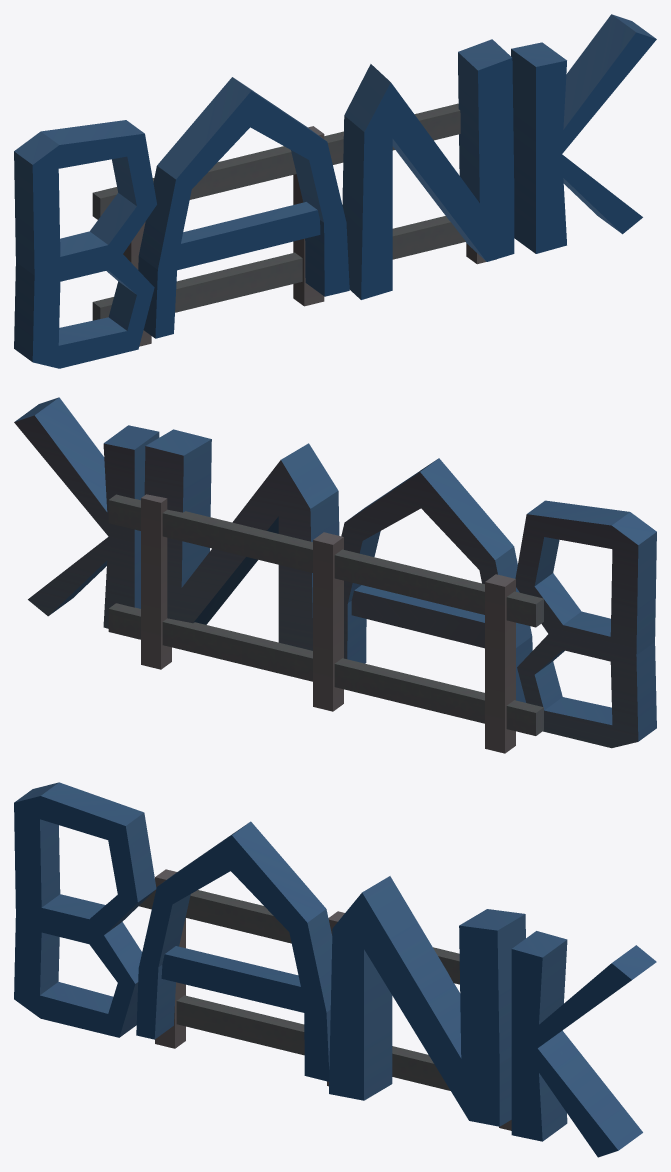
The model's file is SM_Hoarding_01.FBX.
3 views of the same model, one above another, from view 1: azimuth 30°, elevation 25°; view 2: azimuth 150°, elevation 25°; view 3: azimuth 330°, elevation 25° (orthographic).
Parts seen in each view (by area): view 1: SM_Hoarding_01; view 2: SM_Hoarding_01; view 3: SM_Hoarding_01.
Part boxes in pixels (box(x1,y1,x2,y2)): SM_Hoarding_01: box(14, 14, 656, 368); SM_Hoarding_01: box(14, 397, 656, 753); SM_Hoarding_01: box(14, 782, 656, 1157).
Size of what is drawn, in the model's own units: 1081 by 115 by 414.
